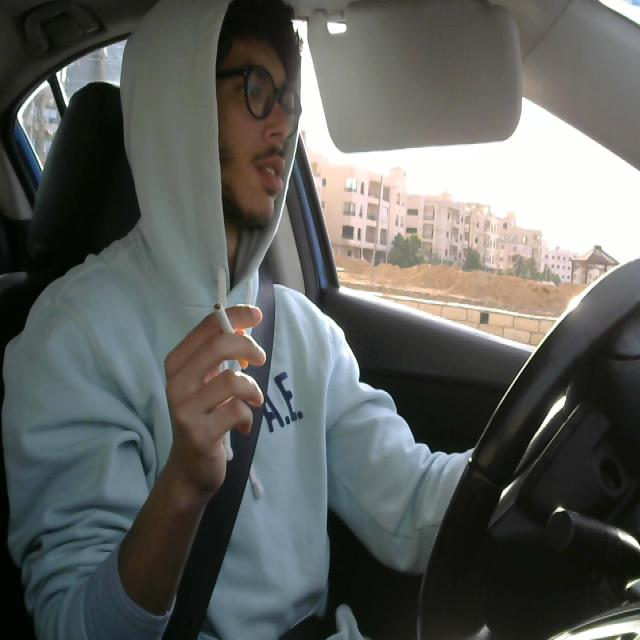smoking: (211, 298, 253, 372)
